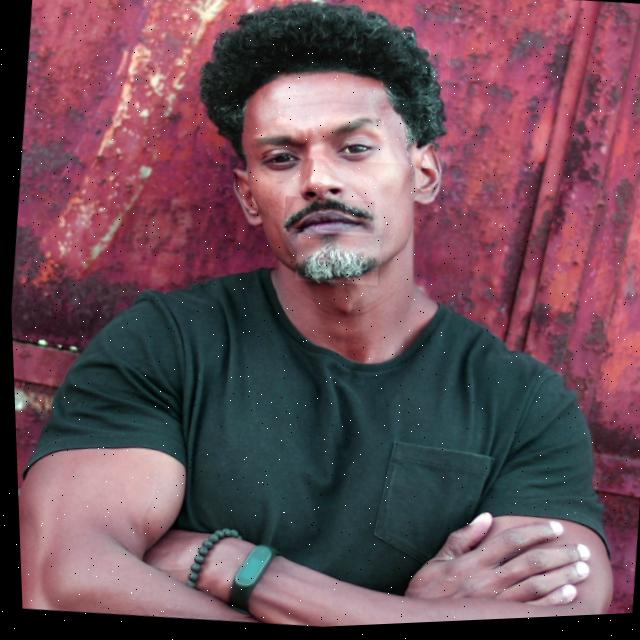beard: (293, 239, 376, 285), (282, 202, 372, 230)
hair: (200, 5, 444, 156)
